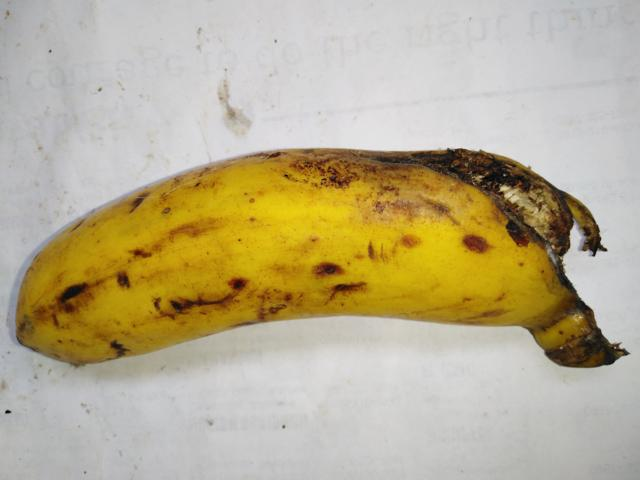ripe: (4, 133, 632, 375)
rotten: (385, 125, 590, 279)
